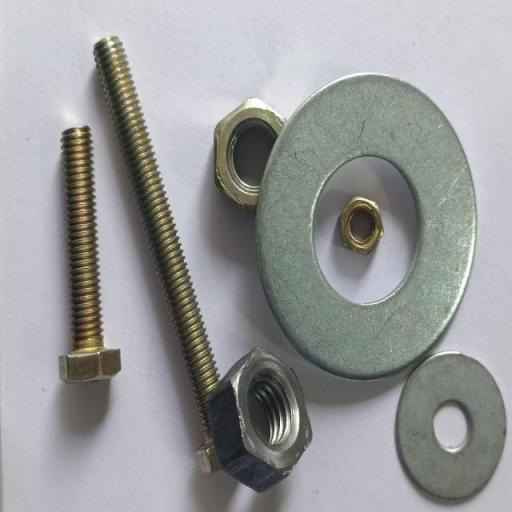Bolt: (92, 35, 226, 475), (58, 125, 121, 384)
Nut: (206, 346, 313, 493), (212, 98, 288, 212), (337, 195, 385, 255)
Washer: (255, 72, 478, 382), (395, 352, 508, 503)
